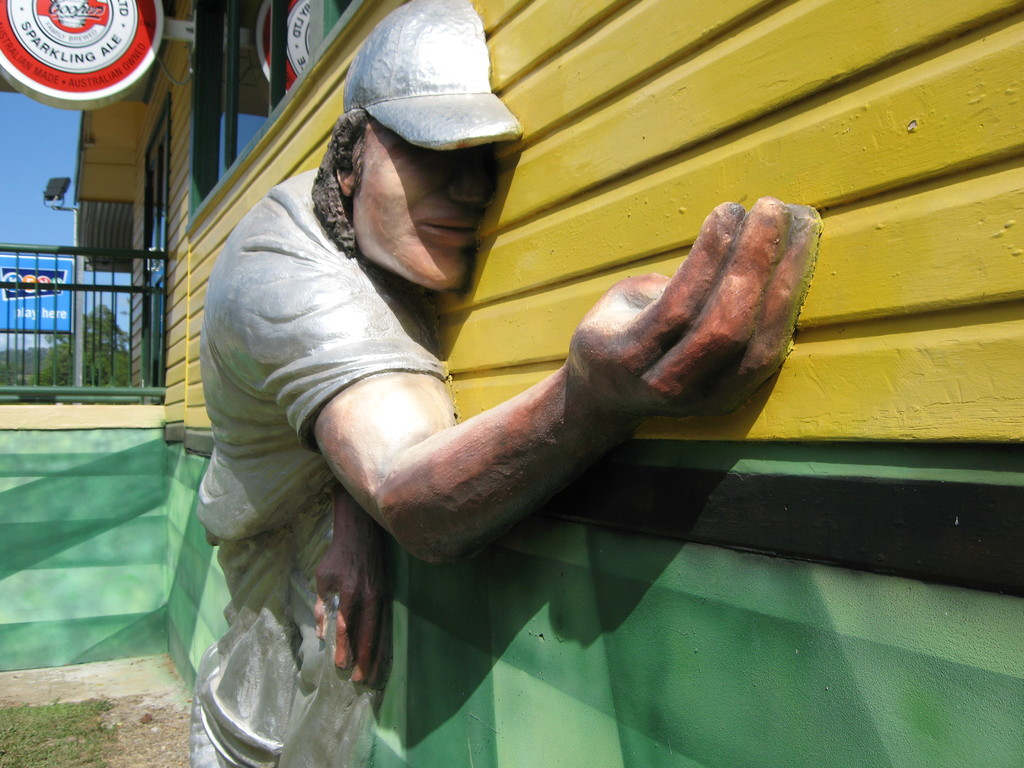face: (364, 98, 508, 284)
